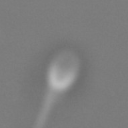normal: (25, 90, 60, 128)
